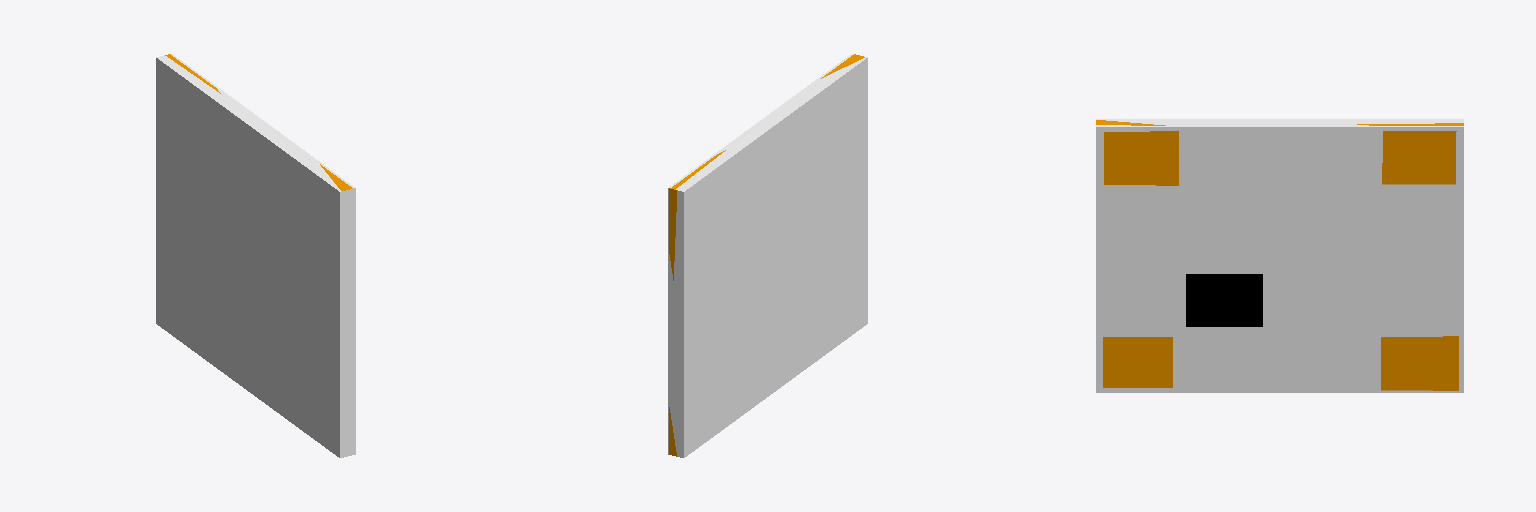
3 renders of one model, left to right at view 1: azimuth 30°, elevation 25°; view 2: azimuth 150°, elevation 25°; view 3: azimuth 270°, elevation 25°, orthographic.
Parts seen in each view (by area): view 1: Cube; view 2: Cube; view 3: Cube.
Boxes of the visible parts, x1,y1,x2,y2 form: Cube: [156, 54, 355, 457]; Cube: [668, 54, 867, 457]; Cube: [1096, 119, 1463, 392].
Size of the model in its own units: 0.5 by 8 by 10.
1 materials, 1 textured.